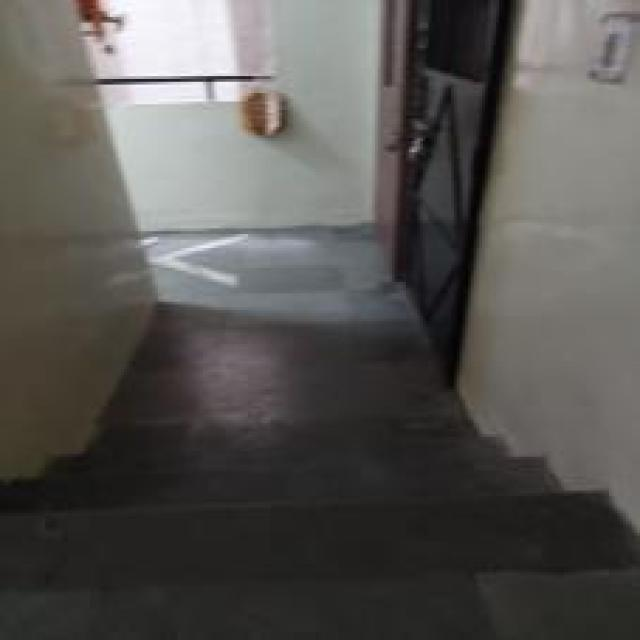downstair: (66, 390, 432, 579)
